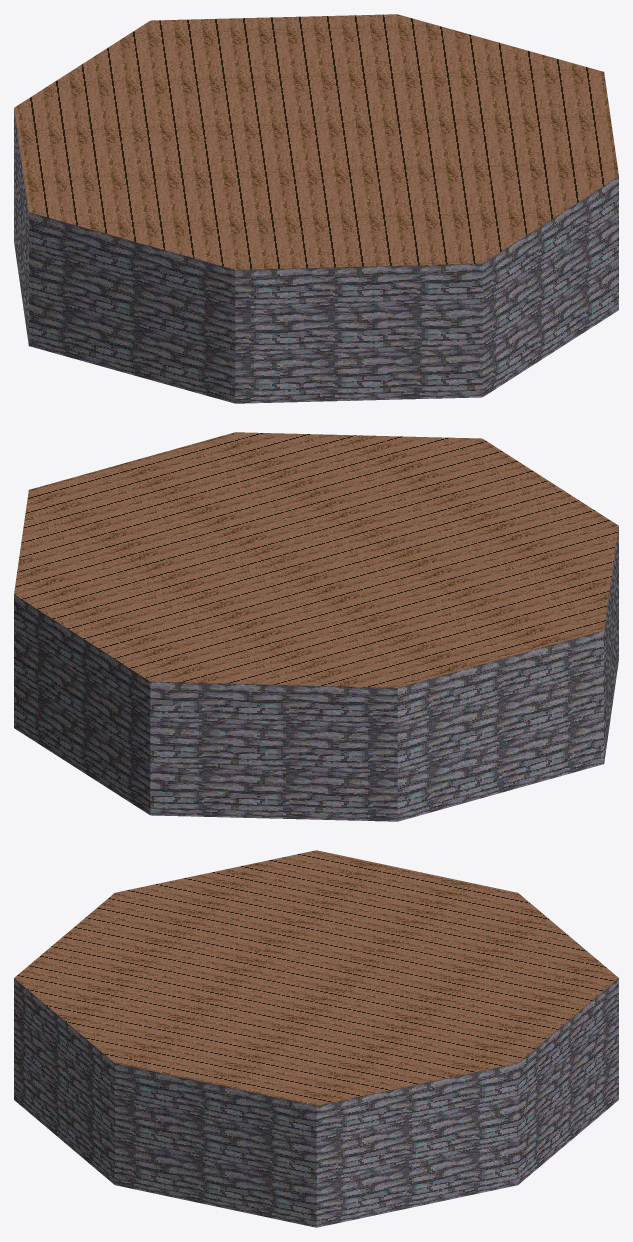
Rendered from AvatarRoom.obj.
The picture shows the model from 3 angles, top to bottom: view 1: azimuth 30°, elevation 25°; view 2: azimuth 150°, elevation 25°; view 3: azimuth 270°, elevation 25°; orthographic projection. The views are drawn at different scales.
Visible parts, largest first — view 1: Cube; view 2: Cube; view 3: Cube.
Part boxes in pixels (x1,y1,x2,y2): Cube: [14, 14, 618, 403]; Cube: [14, 432, 618, 821]; Cube: [14, 850, 618, 1227].
Bounding box in the file's own units: 3 × 0.6667 × 3.
Materials: 2 (2 with a texture image).
